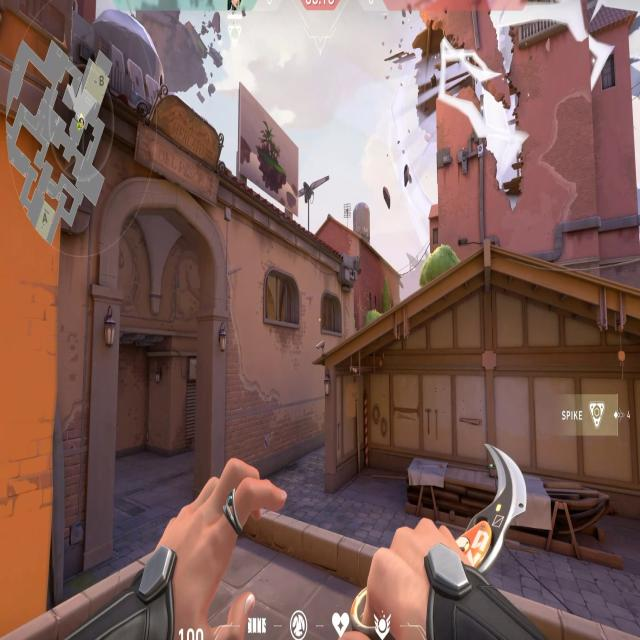B_Garage_Left: (324, 358, 488, 532)
Throwables: (261, 264, 305, 337), (318, 281, 345, 343)
